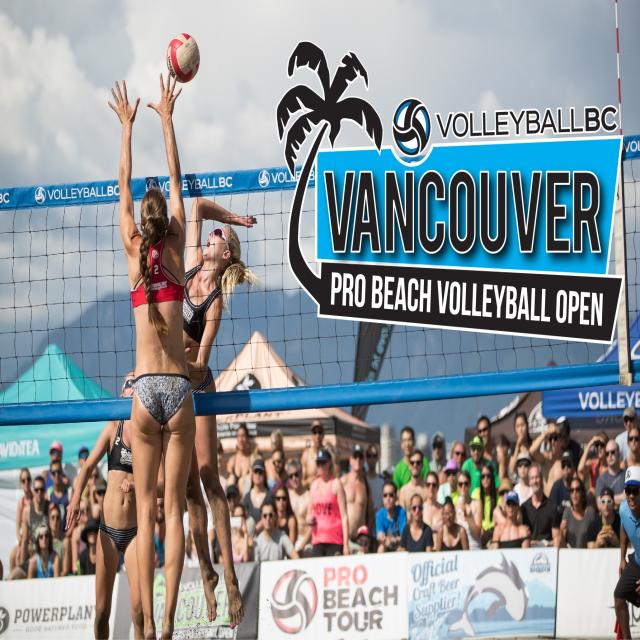body: (4, 388, 638, 563), (106, 65, 198, 640), (182, 195, 258, 631), (64, 369, 143, 640), (302, 444, 351, 558), (612, 463, 640, 640), (15, 476, 50, 579), (299, 418, 345, 493), (339, 443, 372, 545), (519, 461, 557, 548), (240, 458, 278, 540), (584, 485, 632, 549), (284, 456, 314, 558), (252, 500, 301, 562), (361, 442, 387, 554), (470, 460, 502, 549), (460, 434, 502, 501), (547, 449, 589, 516), (558, 477, 596, 549), (225, 423, 258, 505), (577, 430, 622, 490), (255, 485, 298, 546), (452, 469, 484, 550), (374, 479, 408, 555), (595, 439, 627, 517), (392, 426, 430, 491), (490, 489, 531, 549), (43, 458, 75, 532), (242, 459, 278, 524), (396, 448, 426, 525), (27, 522, 62, 579), (435, 496, 470, 552), (421, 470, 445, 551), (507, 410, 535, 475), (47, 505, 72, 577), (16, 467, 36, 546), (263, 428, 287, 490), (229, 503, 253, 563), (511, 449, 536, 506), (70, 446, 90, 504)
